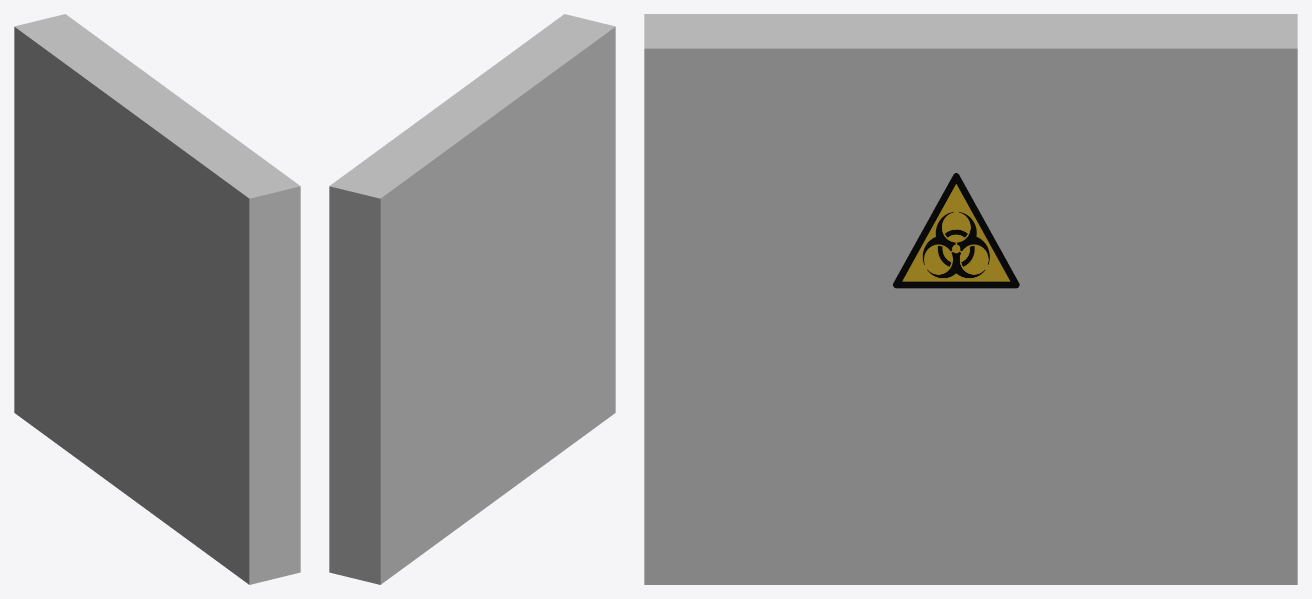
Rendered from Rollup_Door.fbx.
The picture shows the model from 3 angles, left to right: view 1: azimuth 30°, elevation 25°; view 2: azimuth 150°, elevation 25°; view 3: azimuth 270°, elevation 25°; orthographic projection. The views are drawn at different scales.
Visible parts, largest first — view 1: pCube4; view 2: pCube4; view 3: pCube4.
Part boxes in pixels (x1,y1,x2,y2): pCube4: [14, 14, 300, 584]; pCube4: [329, 14, 615, 584]; pCube4: [644, 14, 1297, 584].
Bounding box in the file's own units: 3.26 × 23.21 × 25.63.
